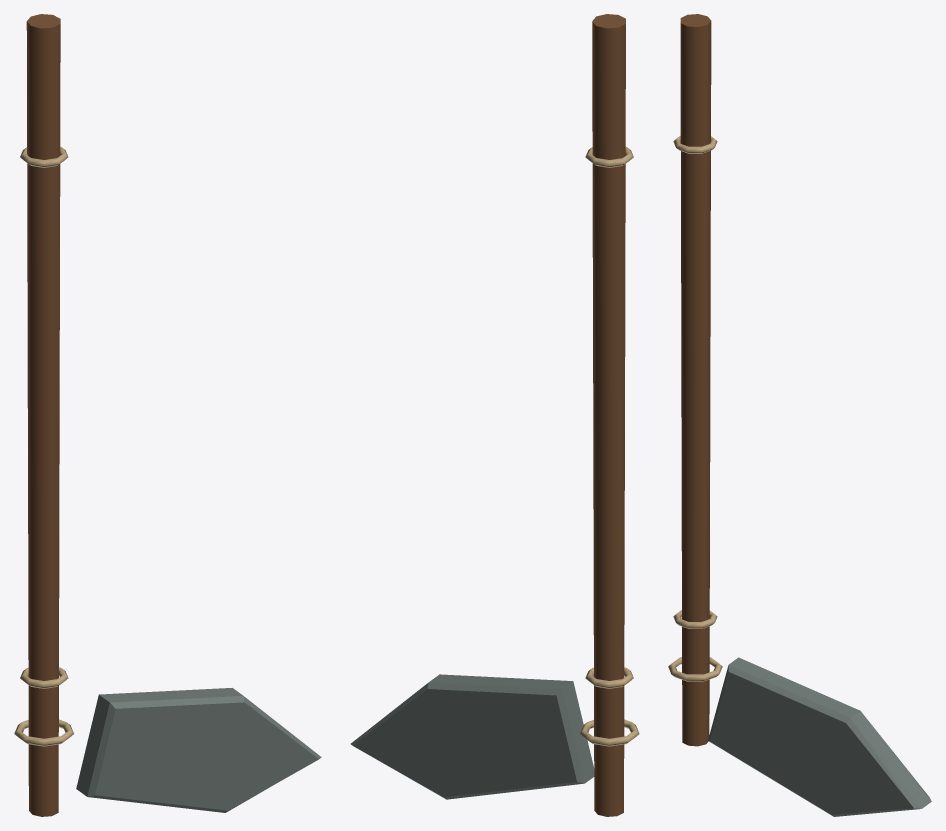
Rendered from stone_farmer.glb.
The picture shows the model from 3 angles, left to right: view 1: azimuth 30°, elevation 25°; view 2: azimuth 150°, elevation 25°; view 3: azimuth 330°, elevation 25°; orthographic projection. The views are drawn at different scales.
Visible parts, largest first — view 1: part_0, part_2, part_1; view 2: part_0, part_2, part_1; view 3: part_0, part_2, part_1.
Boxes of the visible parts, box(x1,y1,x2,y2) form: part_0: box(26, 14, 60, 816); part_2: box(76, 688, 321, 812); part_1: box(14, 147, 73, 746); part_0: box(592, 14, 625, 816); part_2: box(350, 674, 594, 799); part_1: box(579, 147, 639, 746); part_0: box(680, 14, 711, 746); part_2: box(708, 657, 931, 816); part_1: box(668, 136, 722, 681).
Bounding box in the file's own units: 0.2289 × 0.6246 × 0.0449.
